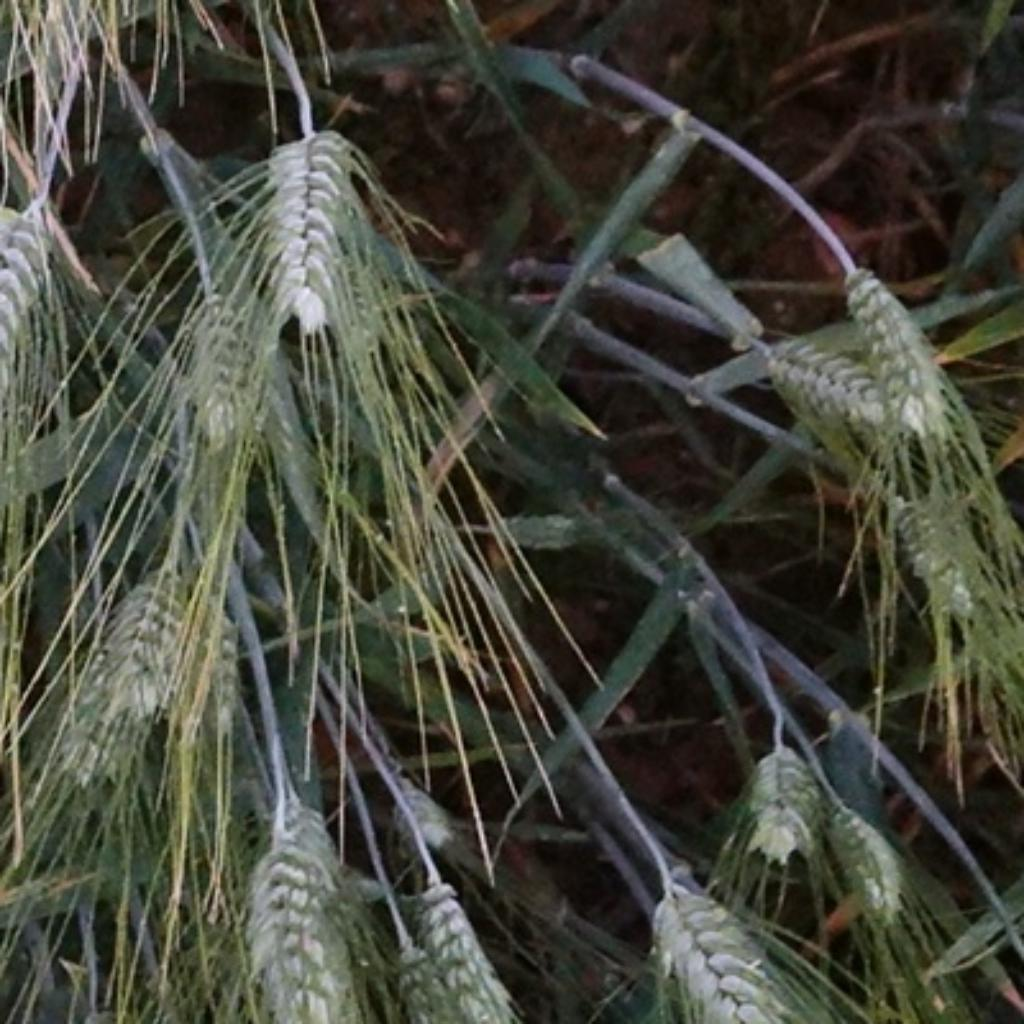0-0: (49, 558, 215, 806), (240, 107, 394, 343), (816, 253, 983, 463), (235, 791, 366, 1024), (632, 870, 814, 1024), (744, 327, 926, 473), (156, 288, 286, 464), (0, 176, 84, 419), (409, 865, 517, 1018), (819, 796, 924, 944), (880, 489, 985, 630), (739, 724, 834, 862), (199, 570, 250, 750), (377, 770, 471, 857), (386, 924, 450, 1024)
